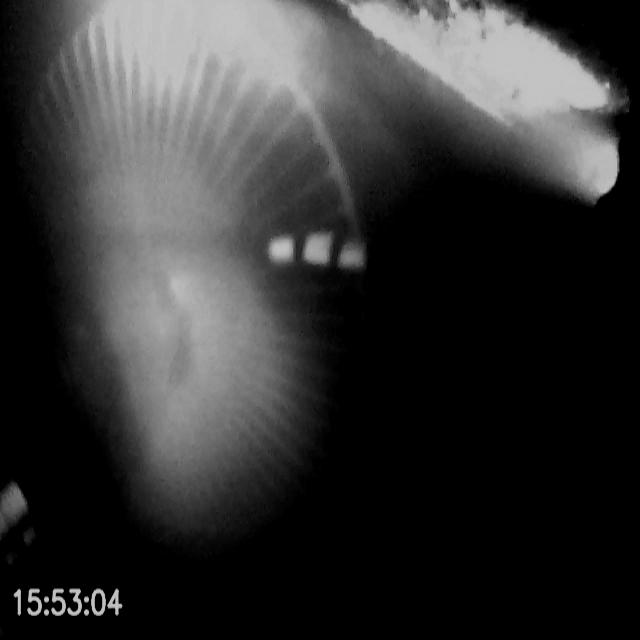white-dots: (264, 228, 370, 274)
